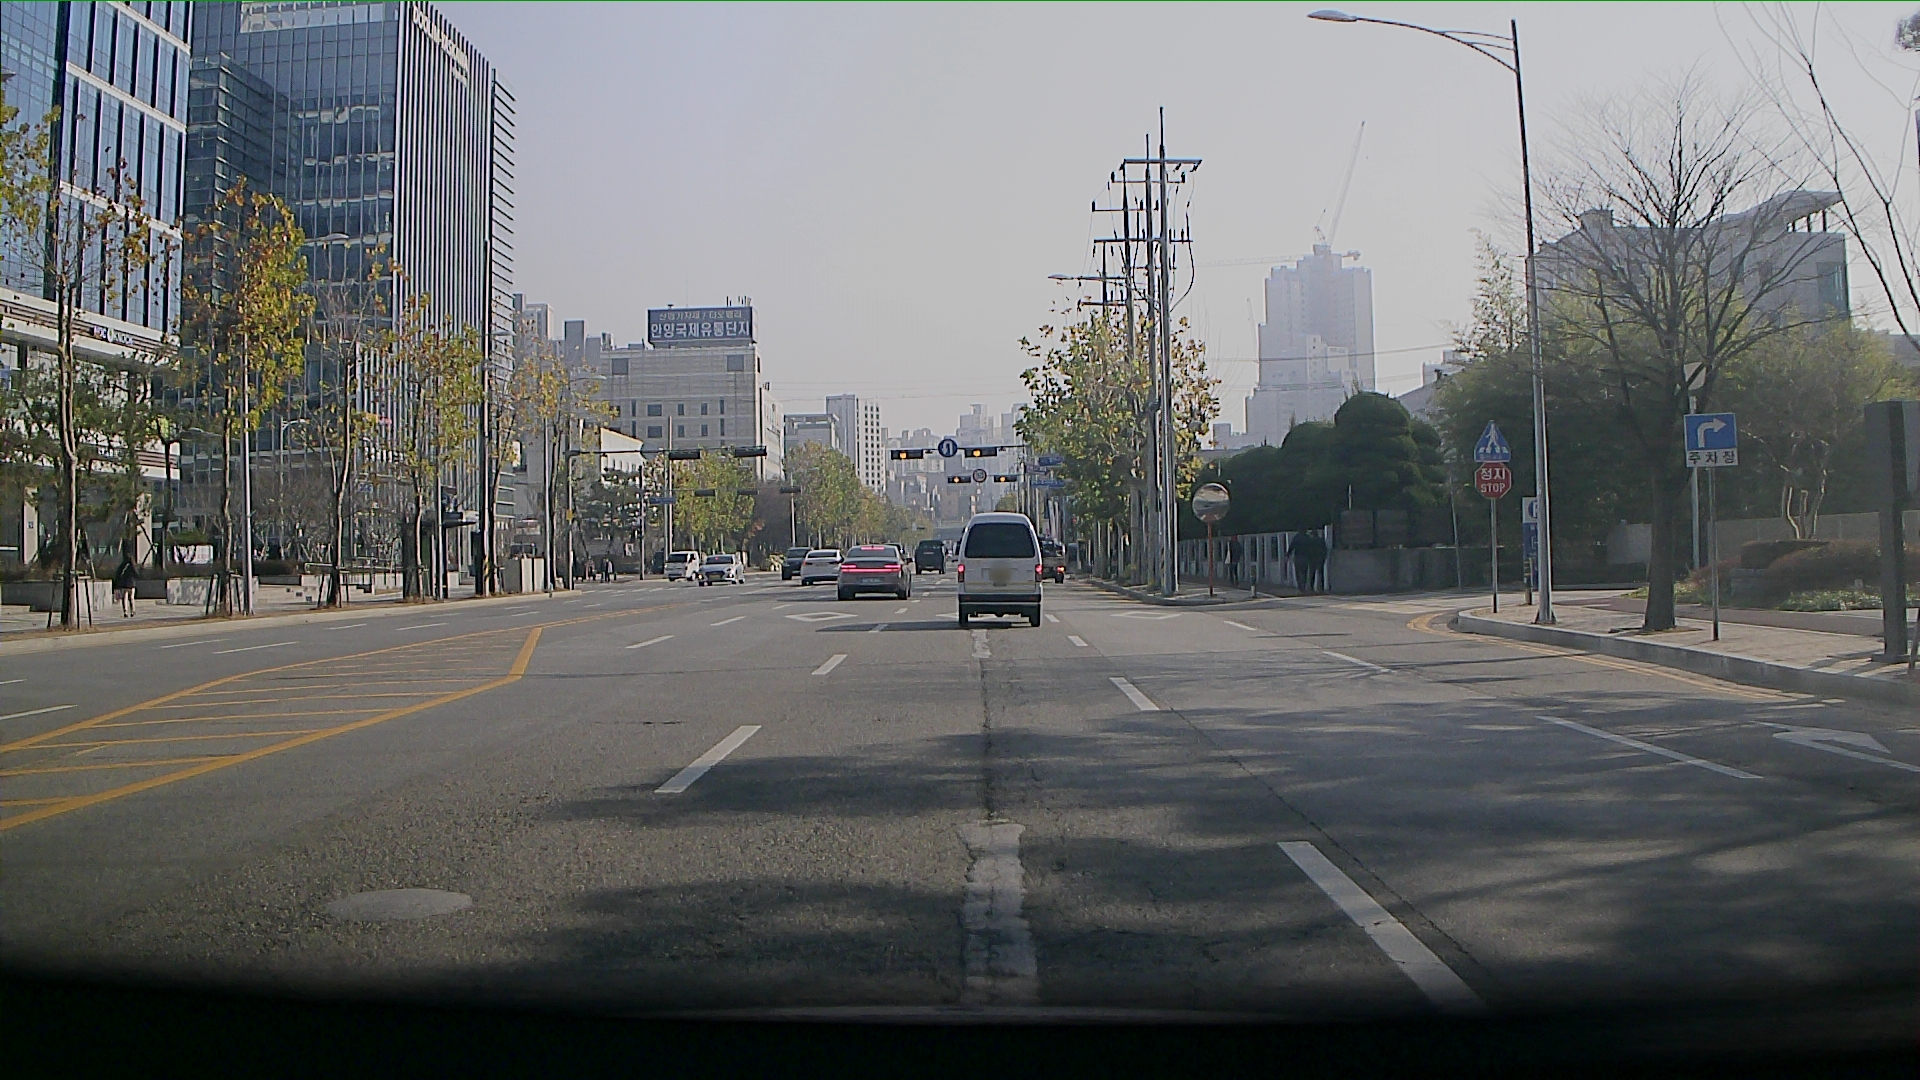trafficLight: (893, 440, 1004, 462), (948, 472, 1023, 489)
trafficSignCircle: (1473, 467, 1516, 500)
trafficSignTri: (1474, 415, 1514, 462)
